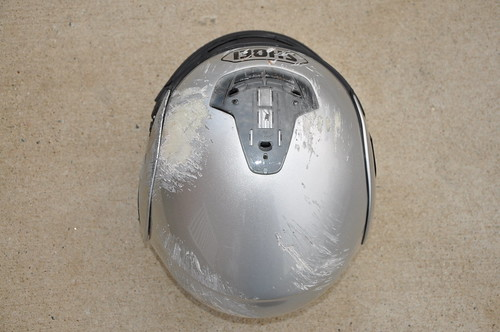helmet: (126, 17, 385, 321)
